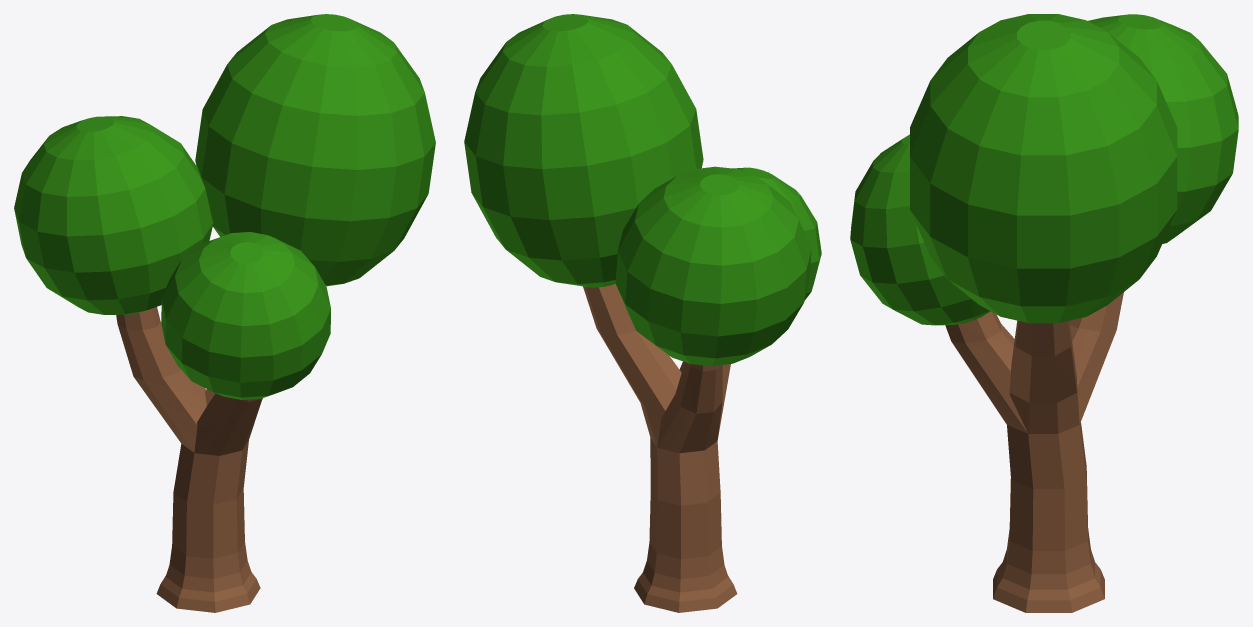
File: Prop_Decorative_Tree_Elm_7.obj
3 views of the same model, side by side, from view 1: azimuth 30°, elevation 25°; view 2: azimuth 150°, elevation 25°; view 3: azimuth 270°, elevation 25° (orthographic). The views are drawn at different scales.
Parts seen in each view (by area): view 1: Leaves, Trunk; view 2: Leaves, Trunk; view 3: Leaves, Trunk.
Boxes of the visible parts, box(x1,y1,x2,y2) form: Leaves: box(14, 14, 435, 399); Trunk: box(116, 307, 262, 612); Leaves: box(464, 14, 821, 366); Trunk: box(583, 284, 737, 612); Leaves: box(850, 14, 1238, 325); Trunk: box(945, 292, 1123, 612).
Size of the model in its own units: 2.63 by 3.86 by 2.17.
